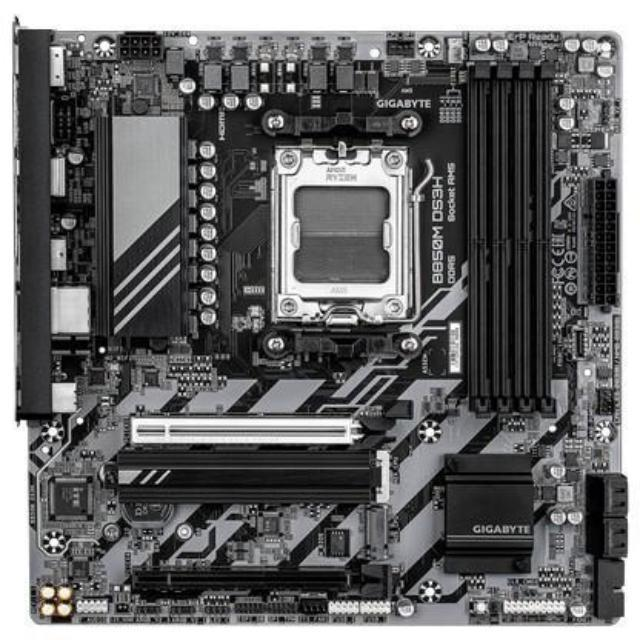Mainboard: (4, 13, 636, 635)
